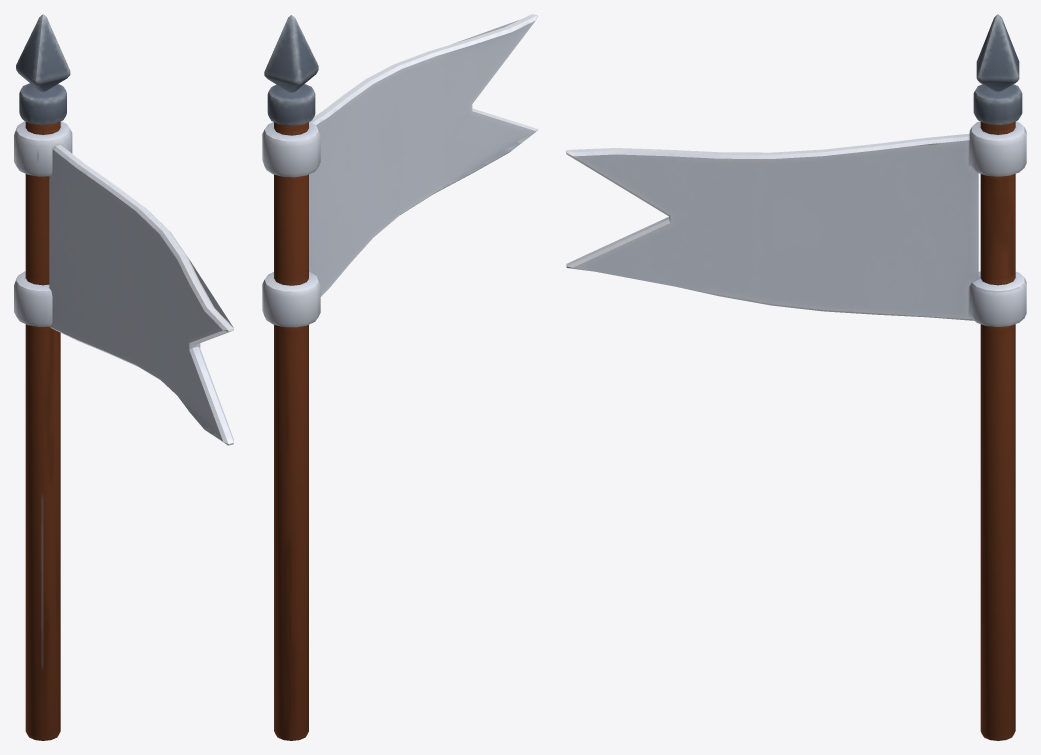
File: pennant.glb
3 renders of one model, left to right at view 1: azimuth 30°, elevation 25°; view 2: azimuth 150°, elevation 25°; view 3: azimuth 270°, elevation 25°, orthographic.
Parts seen in each view (by area): view 1: pennant; view 2: pennant; view 3: pennant.
Part boxes in pixels (<box>): pennant: <box>14,14,233,740</box>; pennant: <box>262,14,537,740</box>; pennant: <box>566,14,1026,740</box>.
Size of the model in its own units: 0.1368 by 1.63 by 0.9433.
Materials: 3 (3 with a texture image).
